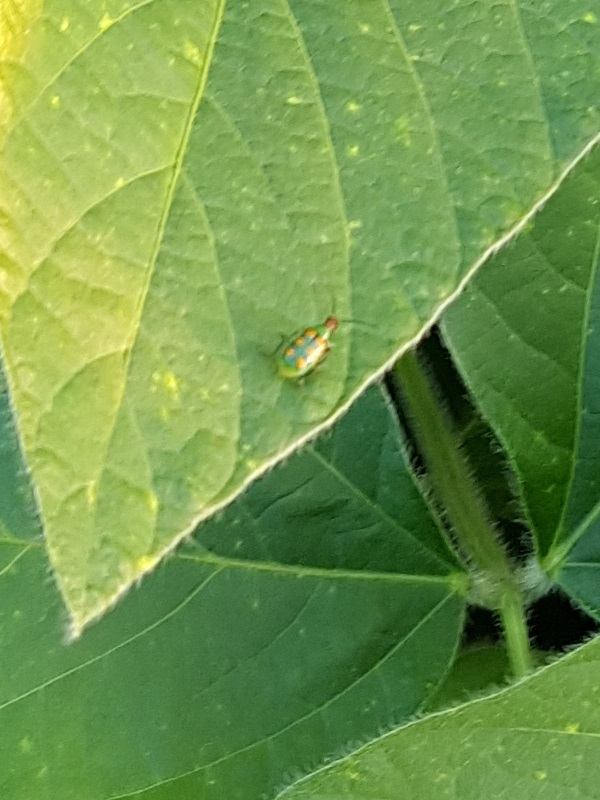Diabrotica_speciosa: (250, 287, 376, 400)
